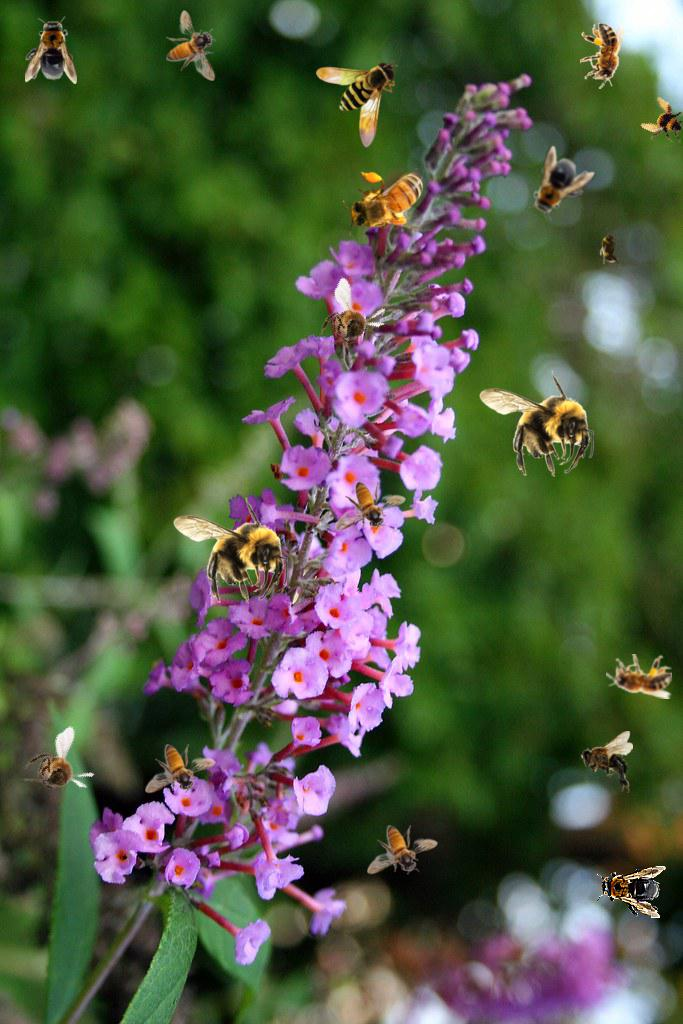Bee: (173, 497, 288, 604), (479, 370, 594, 477), (12, 725, 105, 815), (307, 276, 396, 368), (316, 60, 398, 148), (517, 144, 597, 230), (343, 168, 436, 236), (594, 861, 666, 919), (367, 825, 438, 875), (166, 10, 216, 81), (335, 481, 406, 531), (145, 744, 216, 794), (25, 16, 77, 84), (580, 731, 633, 793), (606, 654, 672, 699), (580, 23, 625, 89), (636, 93, 683, 153), (599, 228, 621, 268)
